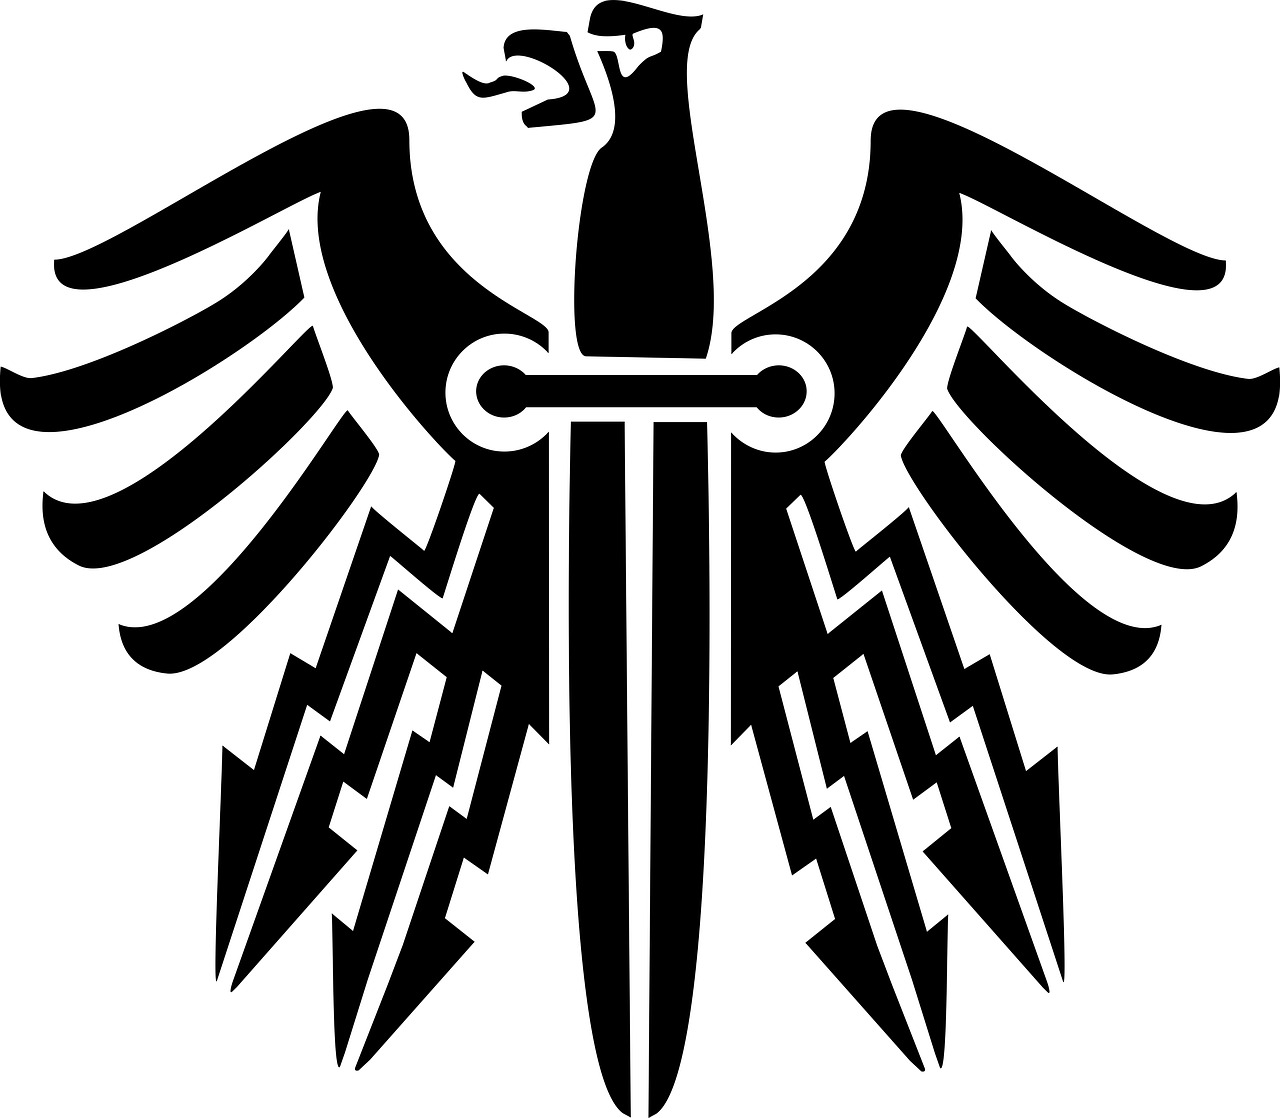knife: (445, 0, 837, 1118)
